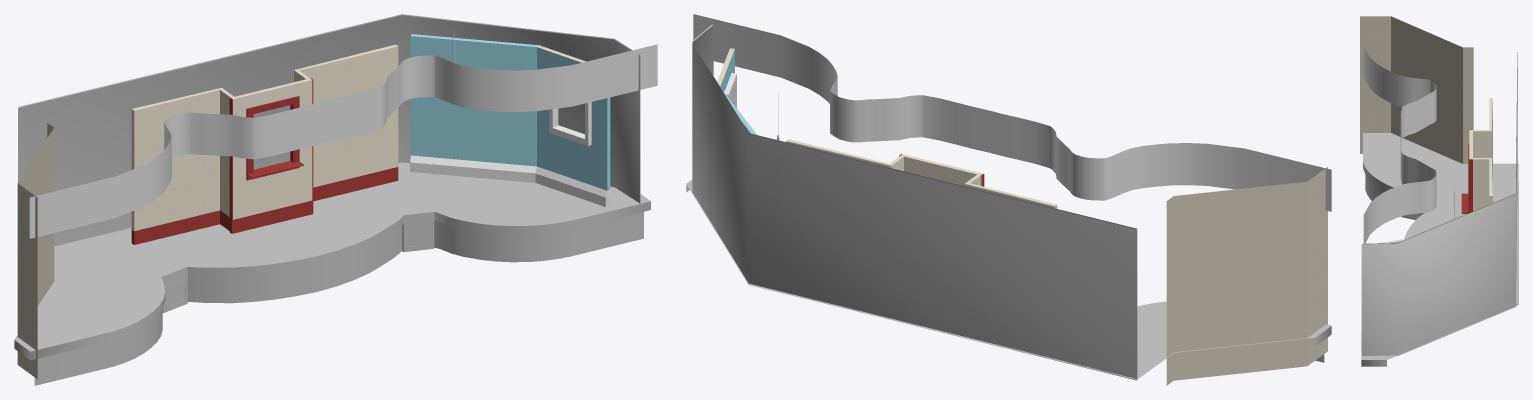
File: CUProto.fbx
The picture shows the model from 3 angles, left to right: view 1: azimuth 30°, elevation 25°; view 2: azimuth 150°, elevation 25°; view 3: azimuth 270°, elevation 25°; orthographic projection. The views are drawn at different scales.
Parts seen in each view (by area): view 1: Circle.017; view 2: Circle.017; view 3: Circle.017.
Boxes of the visible parts, bbox=[...] form: Circle.017: bbox=[14, 14, 657, 385]; Circle.017: bbox=[686, 14, 1331, 385]; Circle.017: bbox=[1360, 16, 1518, 366].
Bounding box in the file's own units: 807 × 238 × 233.
